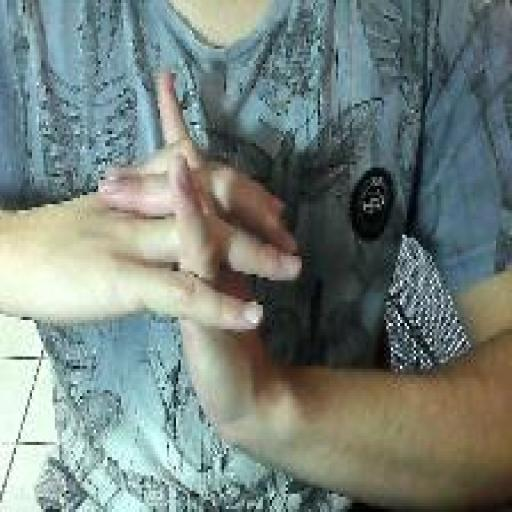Ushi -ox-: (95, 66, 305, 456)
